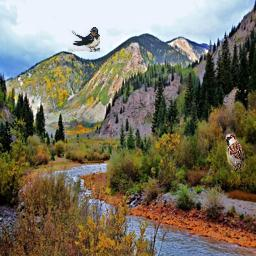Sparrow: (225, 132, 245, 172)
Swallow: (68, 27, 100, 52)
